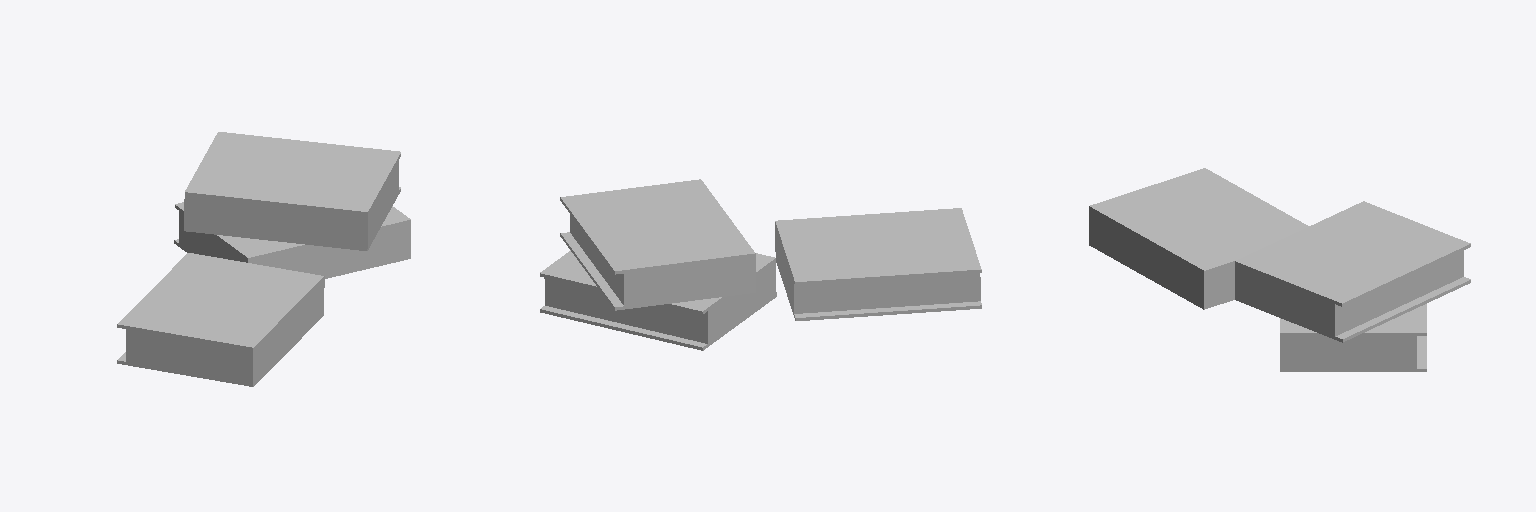
Rendered from Book_Pile.obj.
3 renders of one model, left to right at view 1: azimuth 30°, elevation 25°; view 2: azimuth 150°, elevation 25°; view 3: azimuth 270°, elevation 25°, orthographic.
Visible parts, largest first — view 1: Cube, Cube.002, Cube.001; view 2: Cube.002, Cube, Cube.001; view 3: Cube, Cube.002, Cube.001.
Boxes of the visible parts, <box> form: Cube: <box>184,132,400,250</box>; Cube.002: <box>117,253,324,386</box>; Cube.001: <box>174,202,410,278</box>; Cube.002: <box>775,208,981,320</box>; Cube: <box>560,179,755,310</box>; Cube.001: <box>540,250,776,350</box>; Cube: <box>1235,201,1470,342</box>; Cube.002: <box>1089,168,1308,309</box>; Cube.001: <box>1280,304,1426,371</box>.
Bounding box in the file's own units: 5.54 × 1.21 × 5.2.